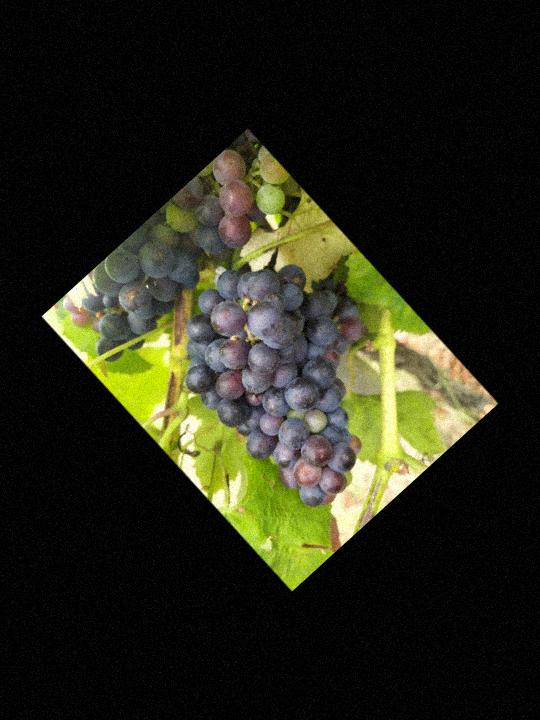grape: (141, 220, 443, 528)
